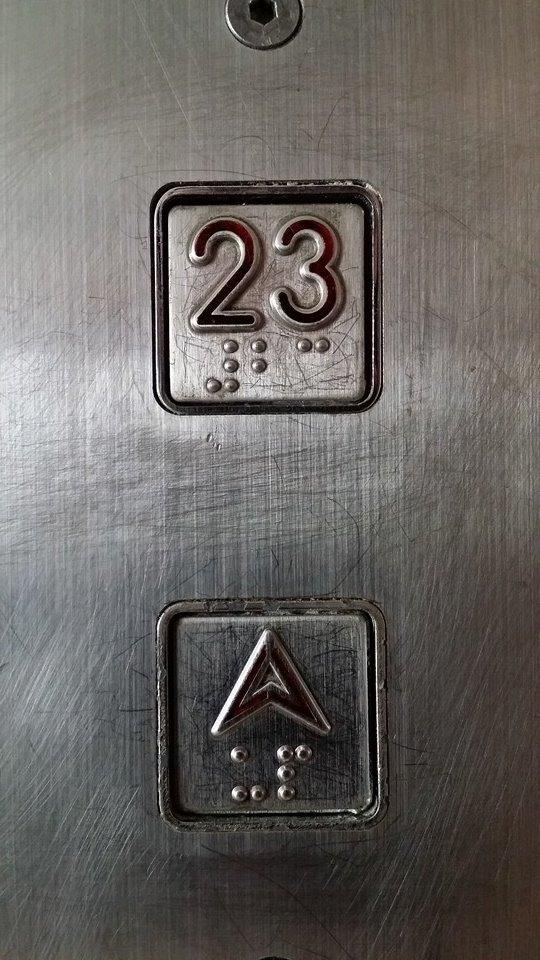23: (144, 177, 389, 423)
up: (149, 593, 394, 839)
